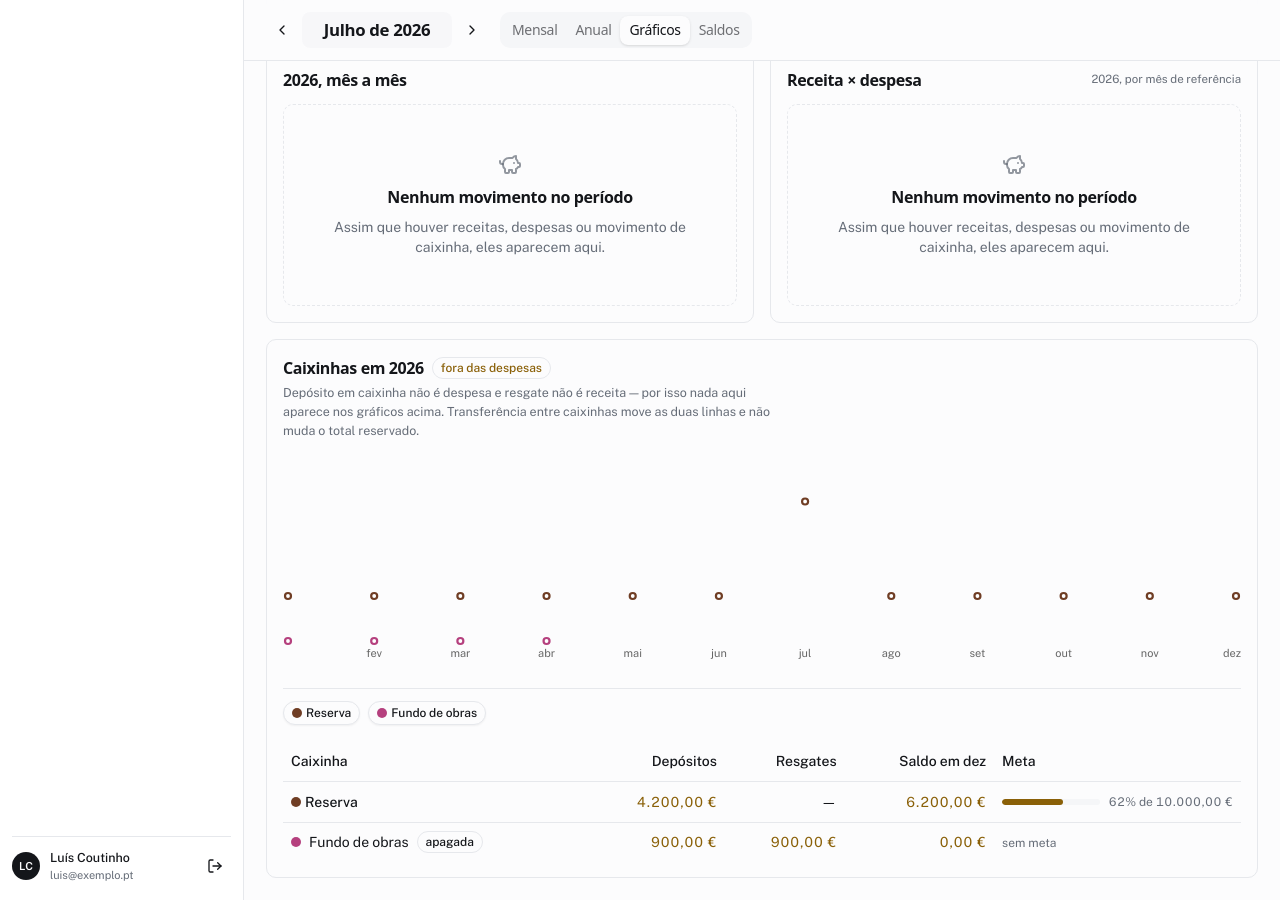
Scenario: CashboxEvolutionPanel › navigates to /cashboxes when a live cashbox row is clicked
(page scrolled)
Click the button "Reserva" in the row of "4.200,00 €": {"x": 324, "y": 802} [291,790,358,814]
(page scrolled)
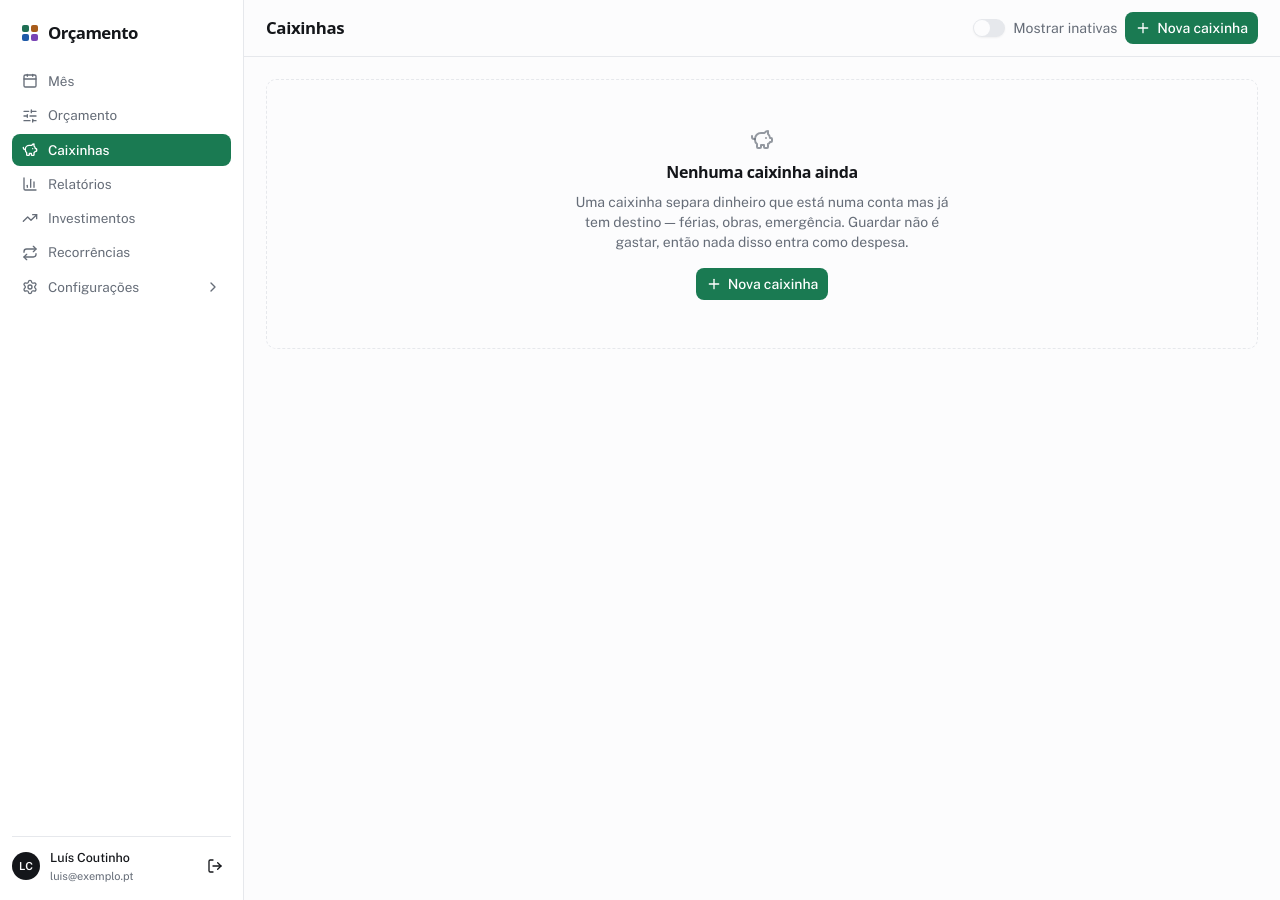
Now the heading "Caixinhas" is shown, box [266,15,344,41]
